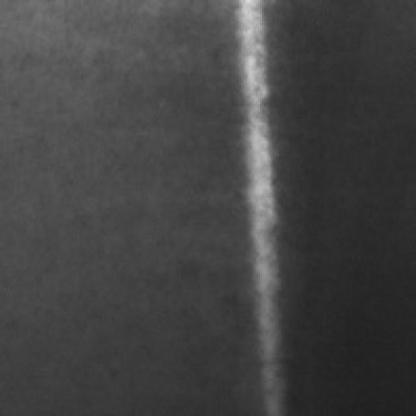scratches: (237, 0, 289, 408)
